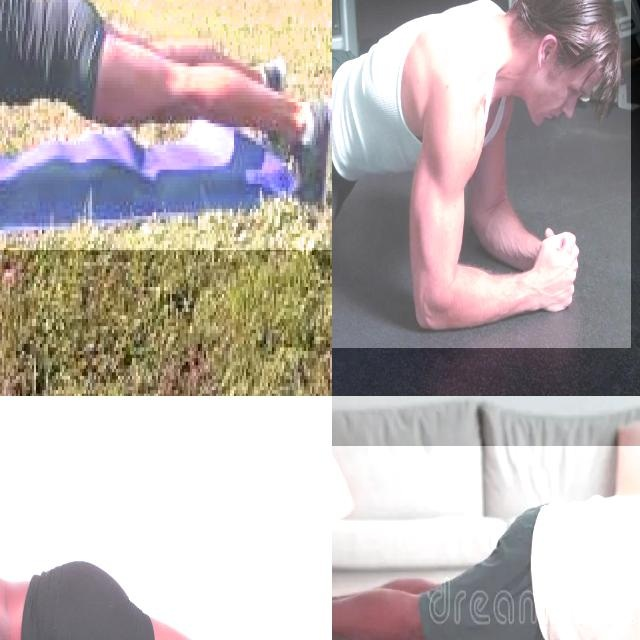plank: (155, 33, 611, 315)
